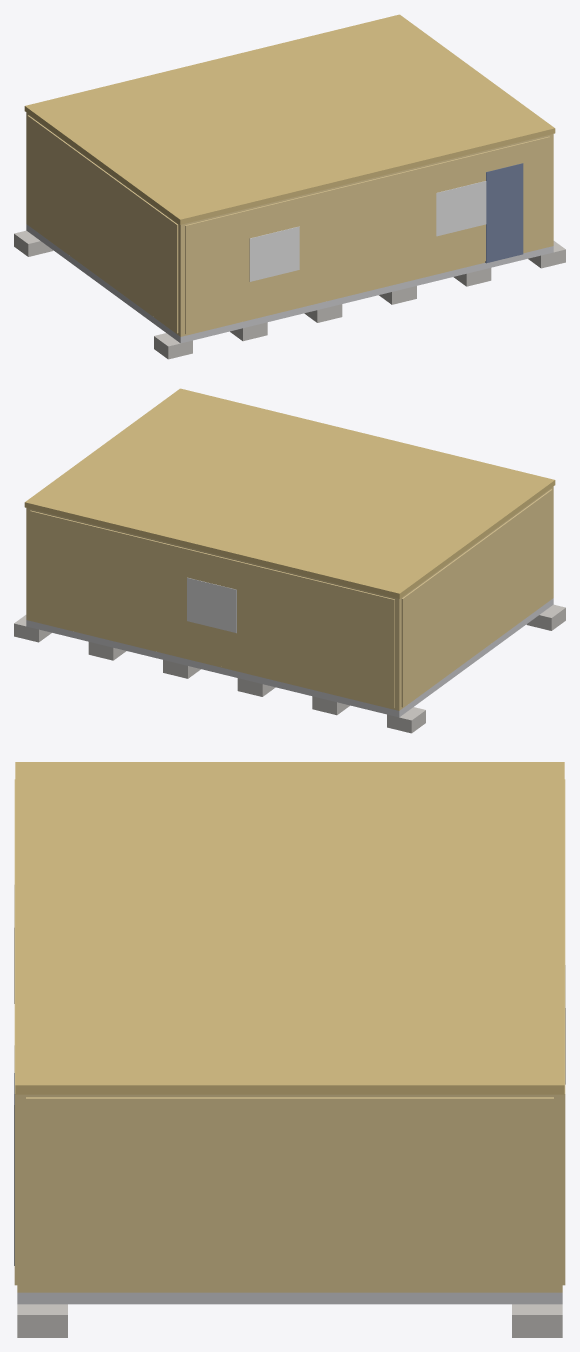
Rendered from Studio-30-Base-GoldenTan-LOD0.glb.
3 renders of one model, top to bottom at view 1: azimuth 30°, elevation 25°; view 2: azimuth 150°, elevation 25°; view 3: azimuth 270°, elevation 25°, orthographic. The views are drawn at different scales.
Parts seen in each view (by area): view 1: RoofMain, ExteriorPanelsStandard, WindowsStandard, BaseFrame, FoundationBlocks, ExteriorShell, EntryDoor; view 2: RoofMain, ExteriorPanelsStandard, BaseFrame, FoundationBlocks, ExteriorShell, WindowsStandard; view 3: RoofMain, ExteriorPanelsStandard, ExteriorShell, BaseFrame, FoundationBlocks.
Part boxes in pixels (left/top/right/bottom): RoofMain: left=24, top=14, right=555, bottom=224; ExteriorPanelsStandard: left=27, top=115, right=550, bottom=334; WindowsStandard: left=249, top=181, right=486, bottom=281; BaseFrame: left=26, top=224, right=553, bottom=343; FoundationBlocks: left=14, top=230, right=565, bottom=359; ExteriorShell: left=26, top=112, right=553, bottom=336; EntryDoor: left=485, top=163, right=523, bottom=263; RoofMain: left=24, top=388, right=555, bottom=598; ExteriorPanelsStandard: left=30, top=489, right=552, bottom=708; BaseFrame: left=26, top=598, right=553, bottom=717; FoundationBlocks: left=14, top=604, right=565, bottom=733; ExteriorShell: left=26, top=486, right=553, bottom=710; WindowsStandard: left=187, top=577, right=236, bottom=633; RoofMain: left=15, top=762, right=564, bottom=1094; ExteriorPanelsStandard: left=14, top=779, right=565, bottom=1289; ExteriorShell: left=17, top=1094, right=562, bottom=1292; BaseFrame: left=17, top=1292, right=562, bottom=1304; FoundationBlocks: left=17, top=1304, right=562, bottom=1337.
Size of the model in its own units: 9.6 by 3.17 by 6.53.
